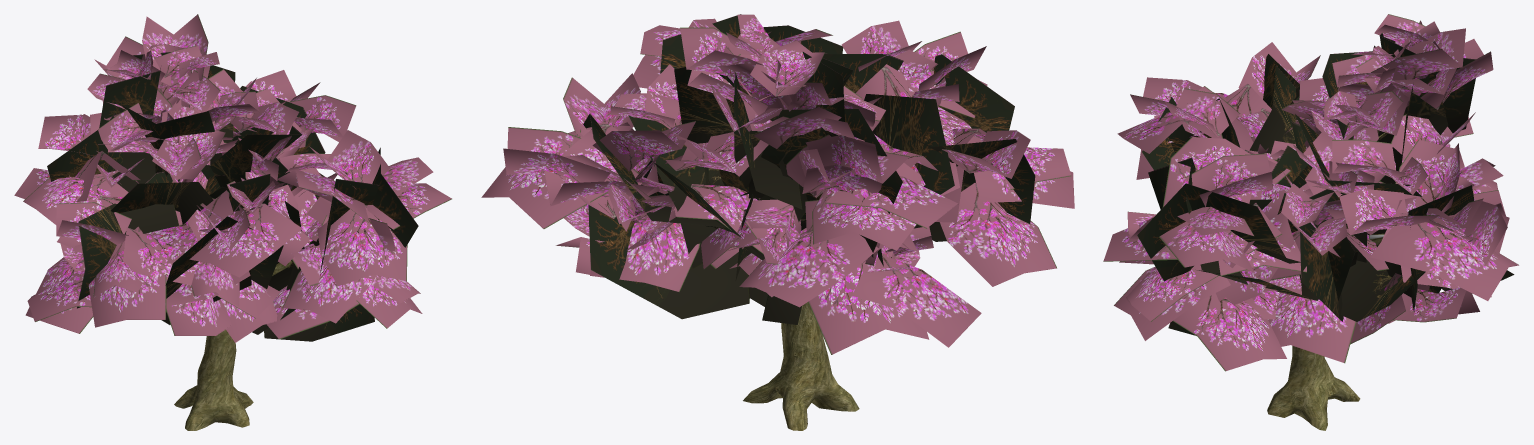
Rendered from Scene_Tree_HongShu_4.FBX.
3 renders of one model, left to right at view 1: azimuth 30°, elevation 25°; view 2: azimuth 150°, elevation 25°; view 3: azimuth 270°, elevation 25°, orthographic. The views are drawn at different scales.
Parts seen in each view (by area): view 1: Scene_Tree_HongShu_4b, Scene_Tree_HongShu_4a; view 2: Scene_Tree_HongShu_4b, Scene_Tree_HongShu_4a; view 3: Scene_Tree_HongShu_4b, Scene_Tree_HongShu_4a.
Part boxes in pixels (bbox=[...]): Scene_Tree_HongShu_4b: bbox=[14, 14, 451, 342]; Scene_Tree_HongShu_4a: bbox=[174, 261, 292, 430]; Scene_Tree_HongShu_4b: bbox=[481, 14, 1074, 354]; Scene_Tree_HongShu_4a: bbox=[743, 128, 944, 430]; Scene_Tree_HongShu_4b: bbox=[1103, 14, 1518, 371]; Scene_Tree_HongShu_4a: bbox=[1267, 132, 1385, 430].
Size of the model in its own units: 1073 by 936 by 926.
